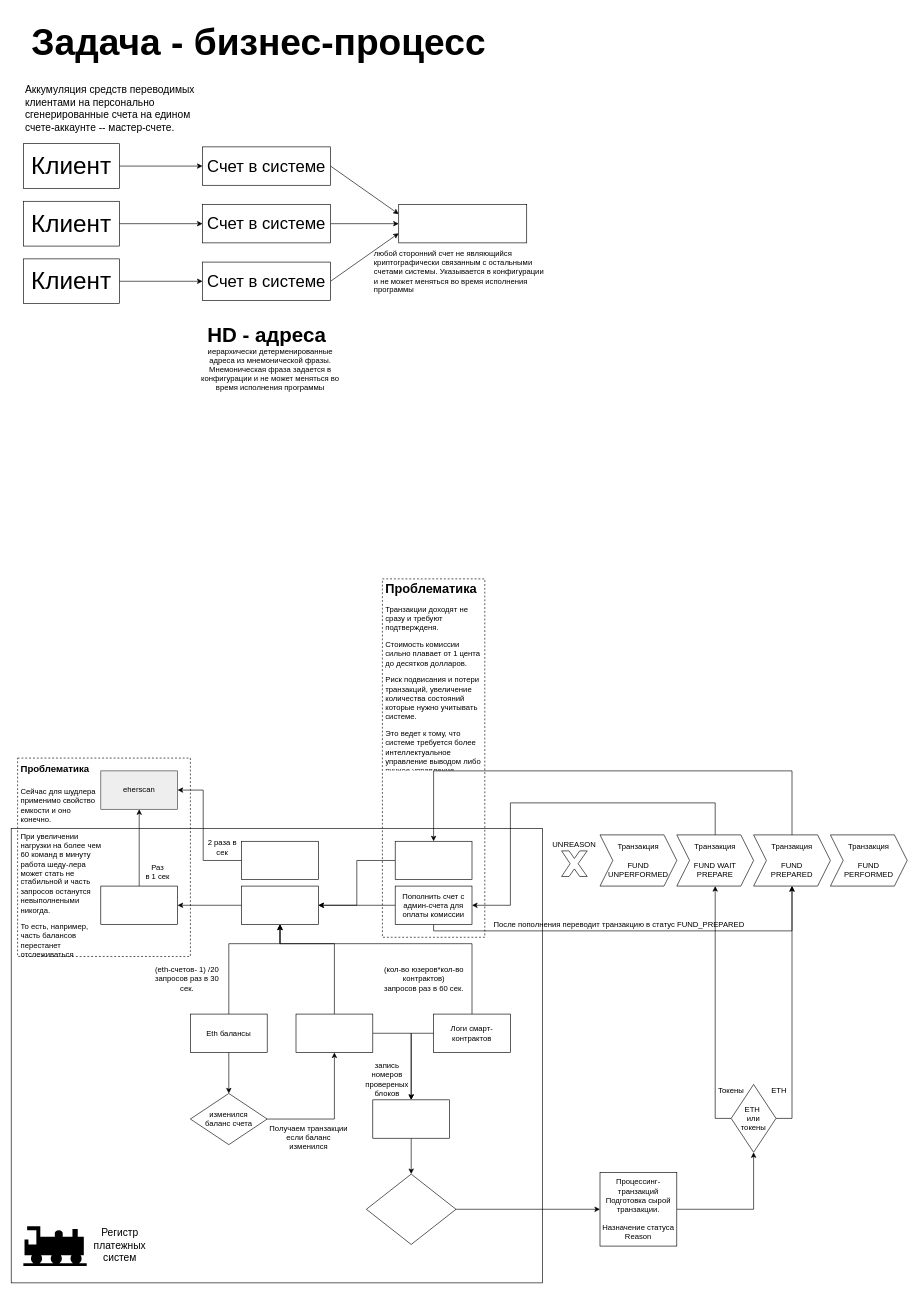
Image size: 918x1294. Some labels were removed from this diagram. Each missing label, with the centre of its shape:
commands: point 279,904
current block: point 279,860
sheduler: point 139,904
Анализ транзакций из платежных систем: point 411,1118
Вывести на мастер-счет: point 433,860
Мастер-счет: point 462,223
Новая транзакция за время жизни приложения: point 411,1208
Транзакции по счету: point 334,1032
